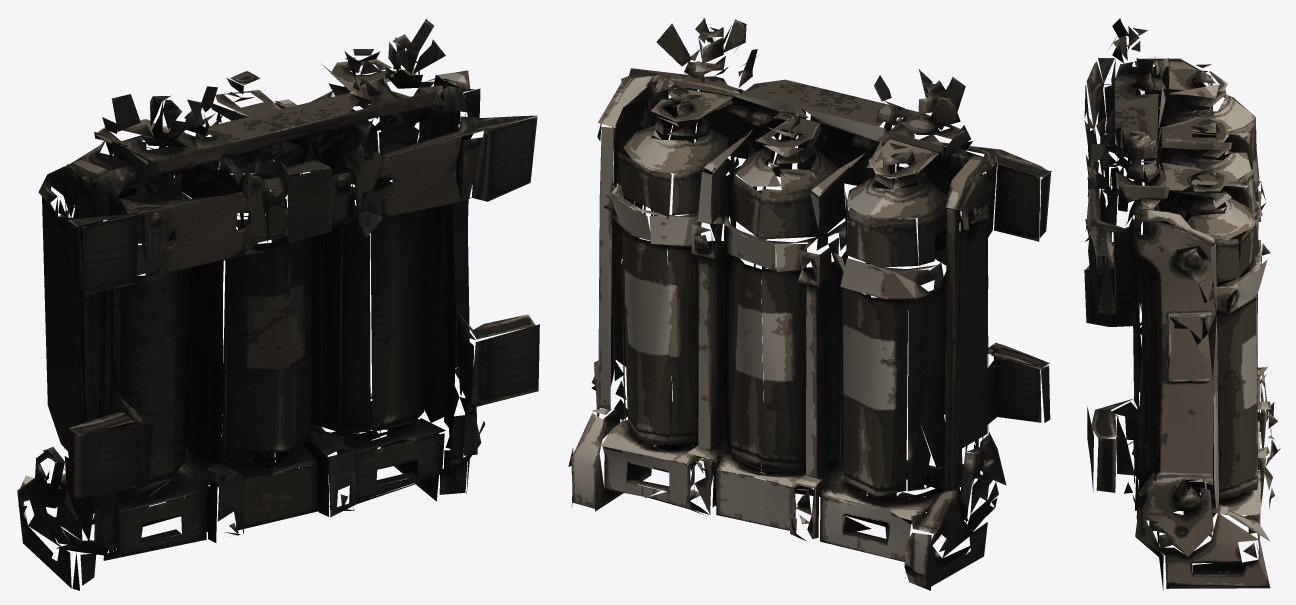
Rendered from mo_capacitor.glb.
3 renders of one model, left to right at view 1: azimuth 30°, elevation 25°; view 2: azimuth 150°, elevation 25°; view 3: azimuth 270°, elevation 25°, orthographic. The views are drawn at different scales.
Visible parts, largest first — view 1: mo_capacitor; view 2: mo_capacitor; view 3: mo_capacitor.
Part boxes in pixels (left/top/right/bottom): mo_capacitor: left=17, top=19, right=539, bottom=590; mo_capacitor: left=568, top=18, right=1051, bottom=590; mo_capacitor: left=1084, top=18, right=1280, bottom=590.
Size of the model in its own units: 0.1965 by 0.2 by 0.0825.
1 material, 1 textured.
